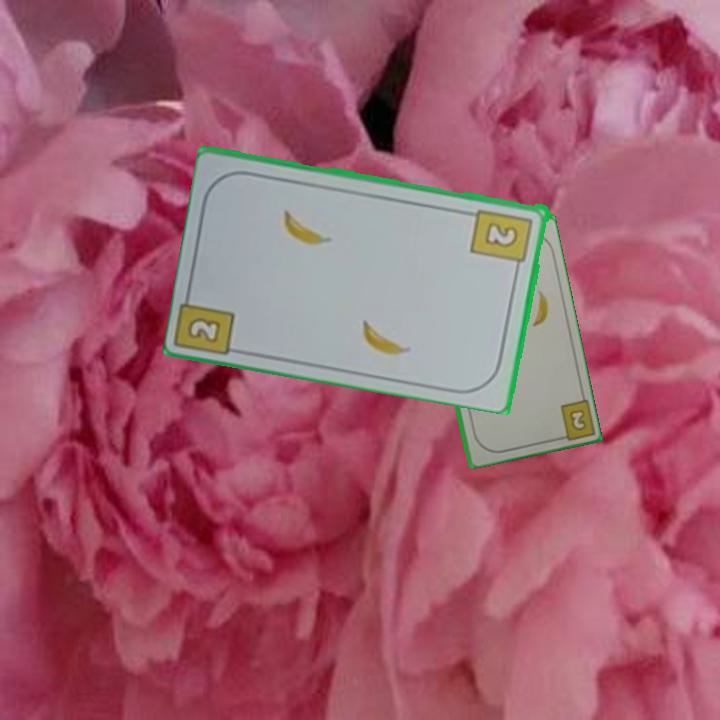2b: (468, 205, 536, 274), (551, 394, 596, 443), (184, 313, 224, 346)
